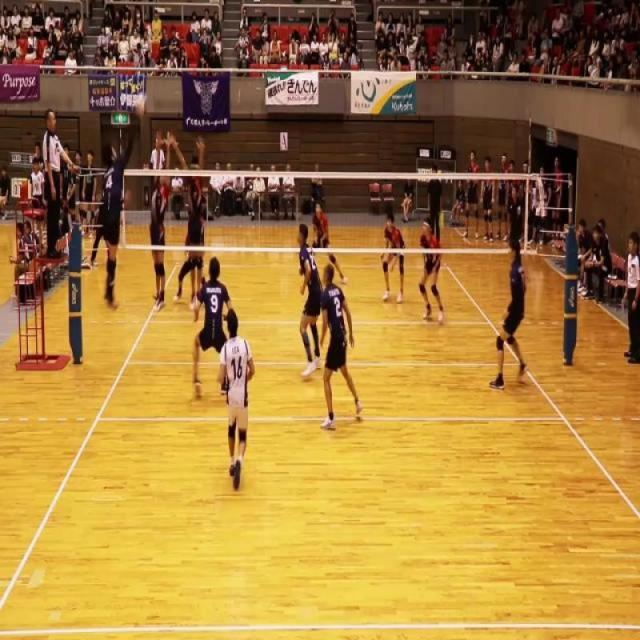volleyball: (134, 92, 148, 120)
